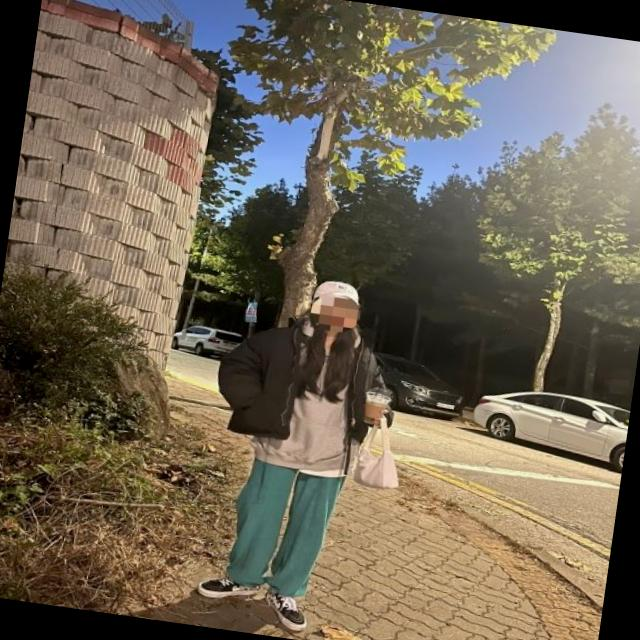cottonpants: (220, 449, 345, 602)
padding: (212, 307, 394, 453)
